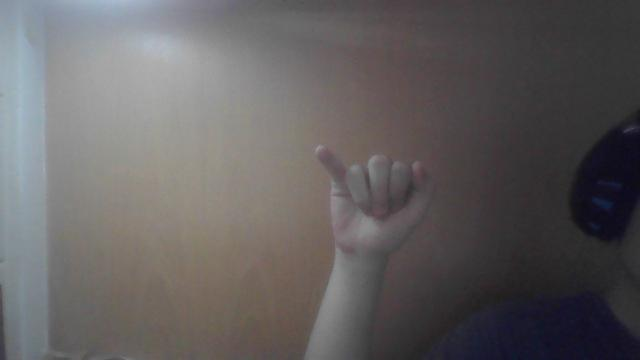Right: (313, 148, 432, 241)
